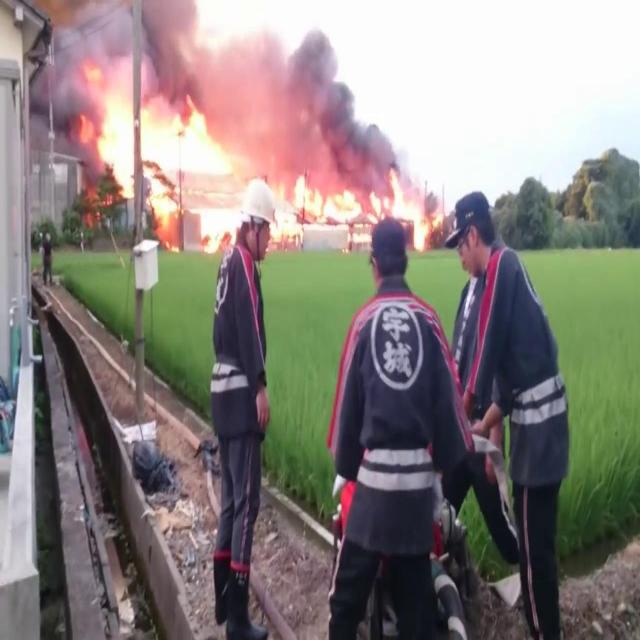Fire: (140, 101, 300, 255), (87, 90, 135, 194), (390, 168, 442, 247), (297, 173, 363, 223), (369, 192, 383, 223)
